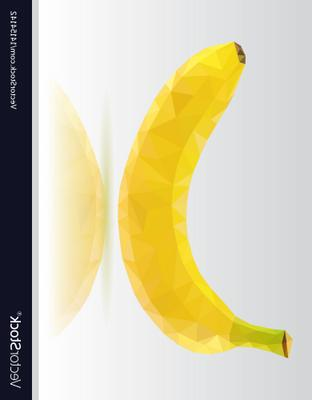banana: (0, 0, 312, 400)
